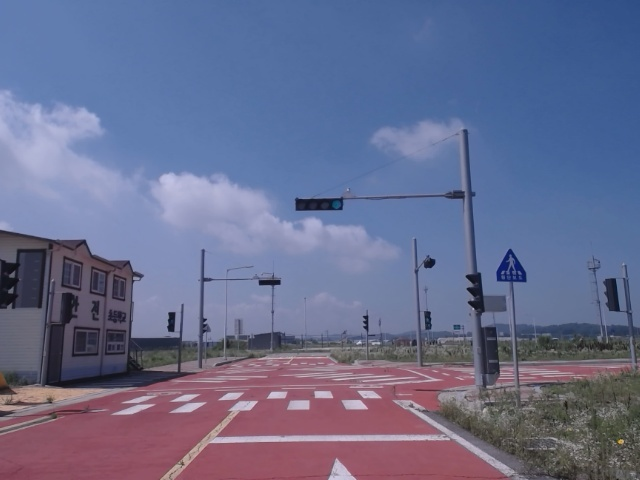straight_green_4: (294, 199, 345, 212)
